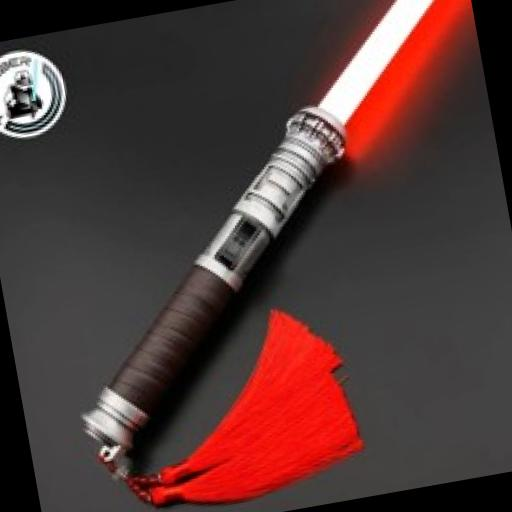sith saber: (9, 0, 512, 454)
